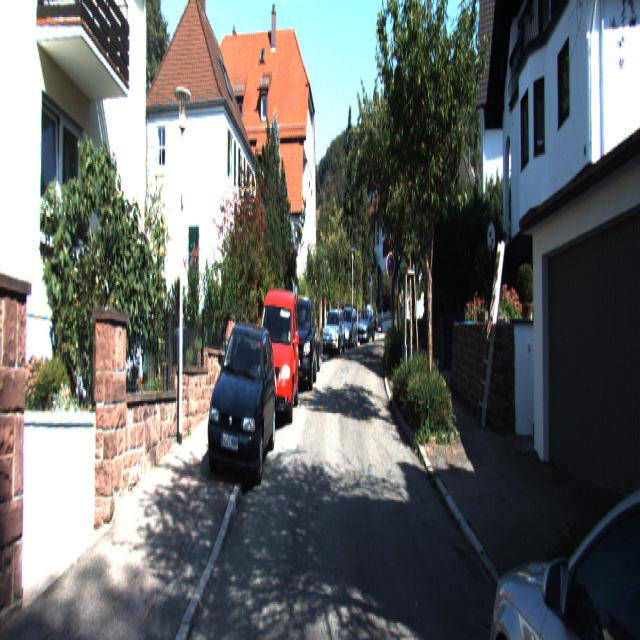Car: (485, 383, 639, 638), (204, 315, 276, 496), (252, 284, 300, 431), (283, 294, 317, 396), (322, 310, 346, 360)
DontCare: (346, 286, 376, 361)
